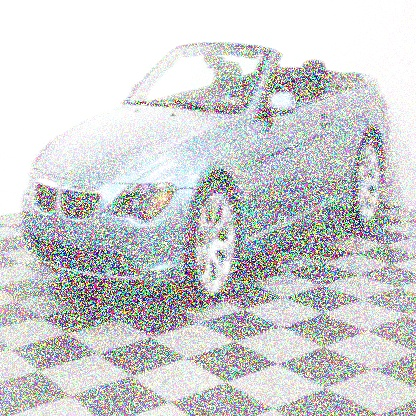Vehicle: (24, 44, 392, 304)
